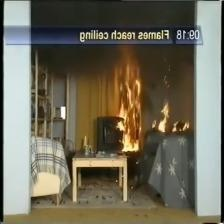fire: (114, 61, 162, 157)
